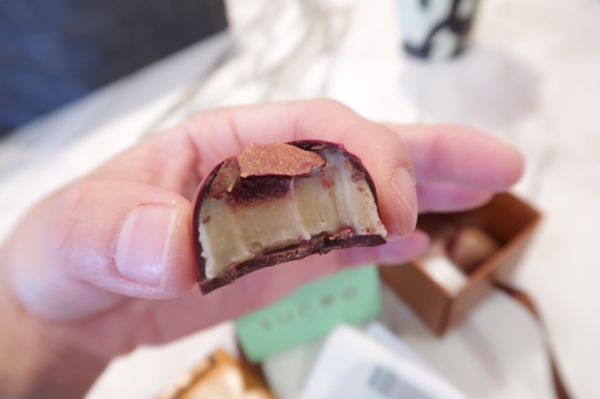salad: (194, 140, 387, 286)
